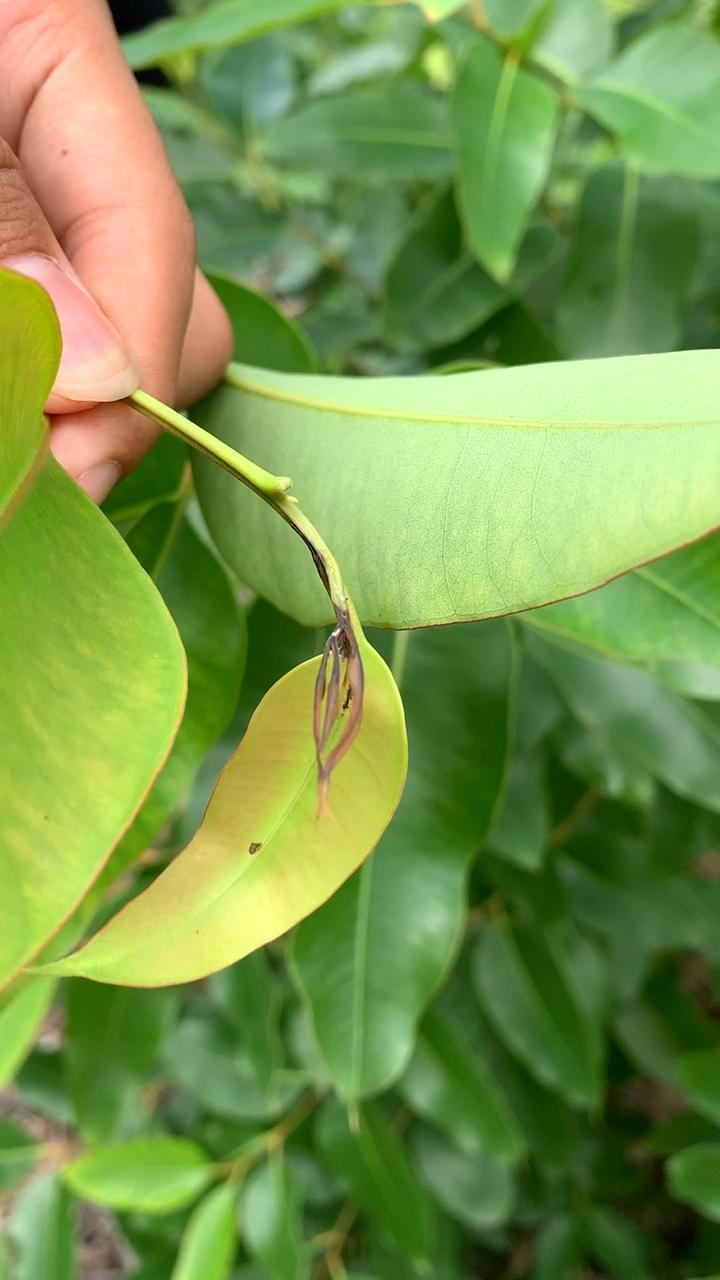Helopeltis-Withered Sprout: (295, 558, 375, 827)
